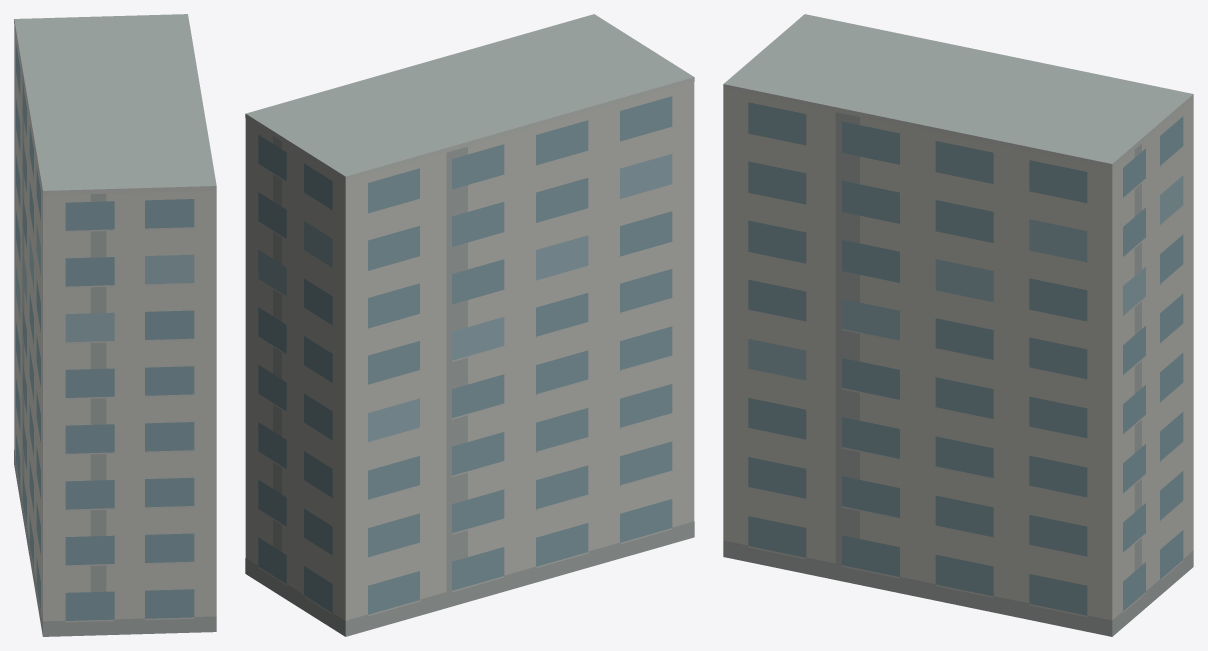
Rendered from survey-upis-32524776.glb.
The picture shows the model from 3 angles, left to right: view 1: azimuth 30°, elevation 25°; view 2: azimuth 150°, elevation 25°; view 3: azimuth 270°, elevation 25°; orthographic projection. The views are drawn at different scales.
Visible parts, largest first — view 1: survey-upis-32524776.tmp; view 2: survey-upis-32524776.tmp; view 3: survey-upis-32524776.tmp.
Part boxes in pixels (x1,y1,x2,y2): survey-upis-32524776.tmp: (14,14,216,636); survey-upis-32524776.tmp: (245,14,694,636); survey-upis-32524776.tmp: (723,14,1193,636).
Size of the model in its own units: 15.86 by 23.3 by 21.01.
